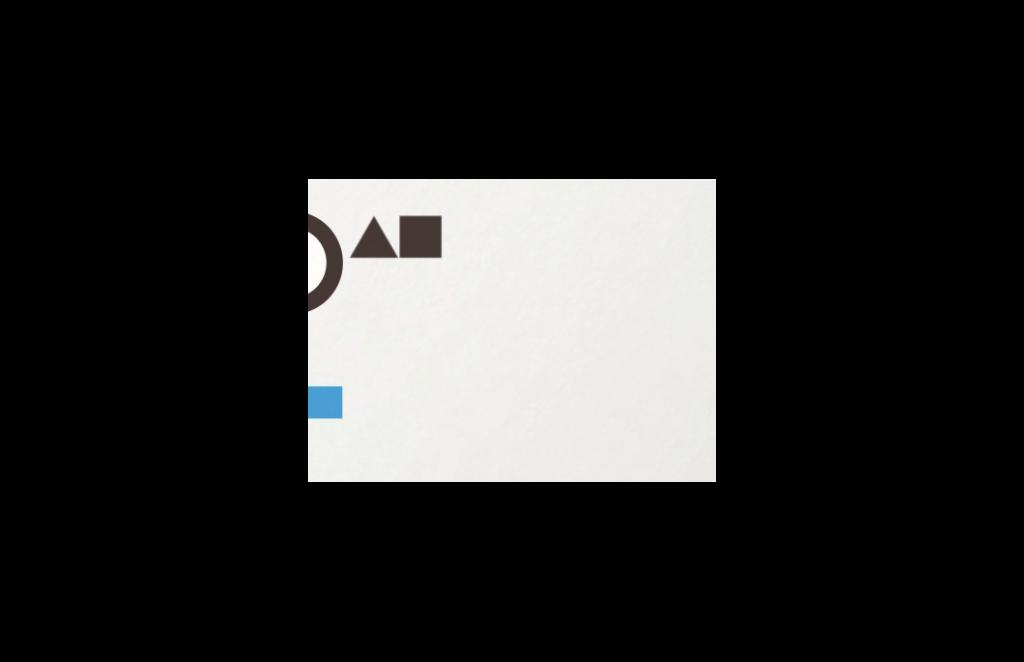connected_station: (308, 200, 357, 322)
line_endpoint: (308, 370, 357, 436)
